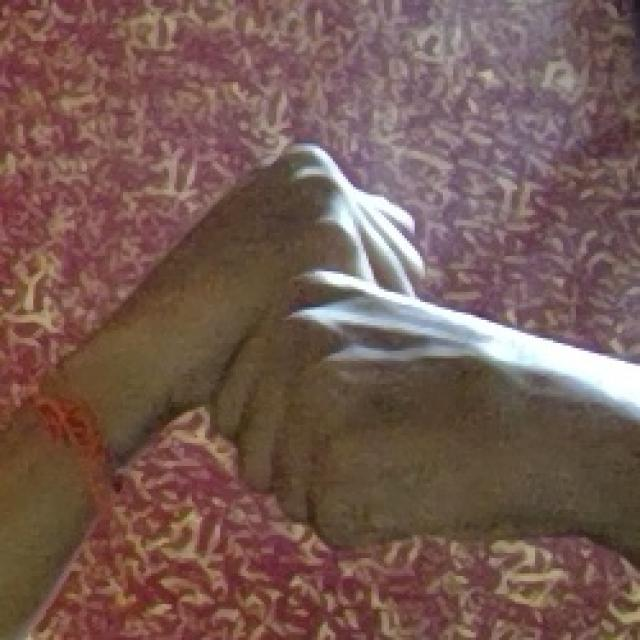Alphabet-g: (91, 129, 640, 603)
